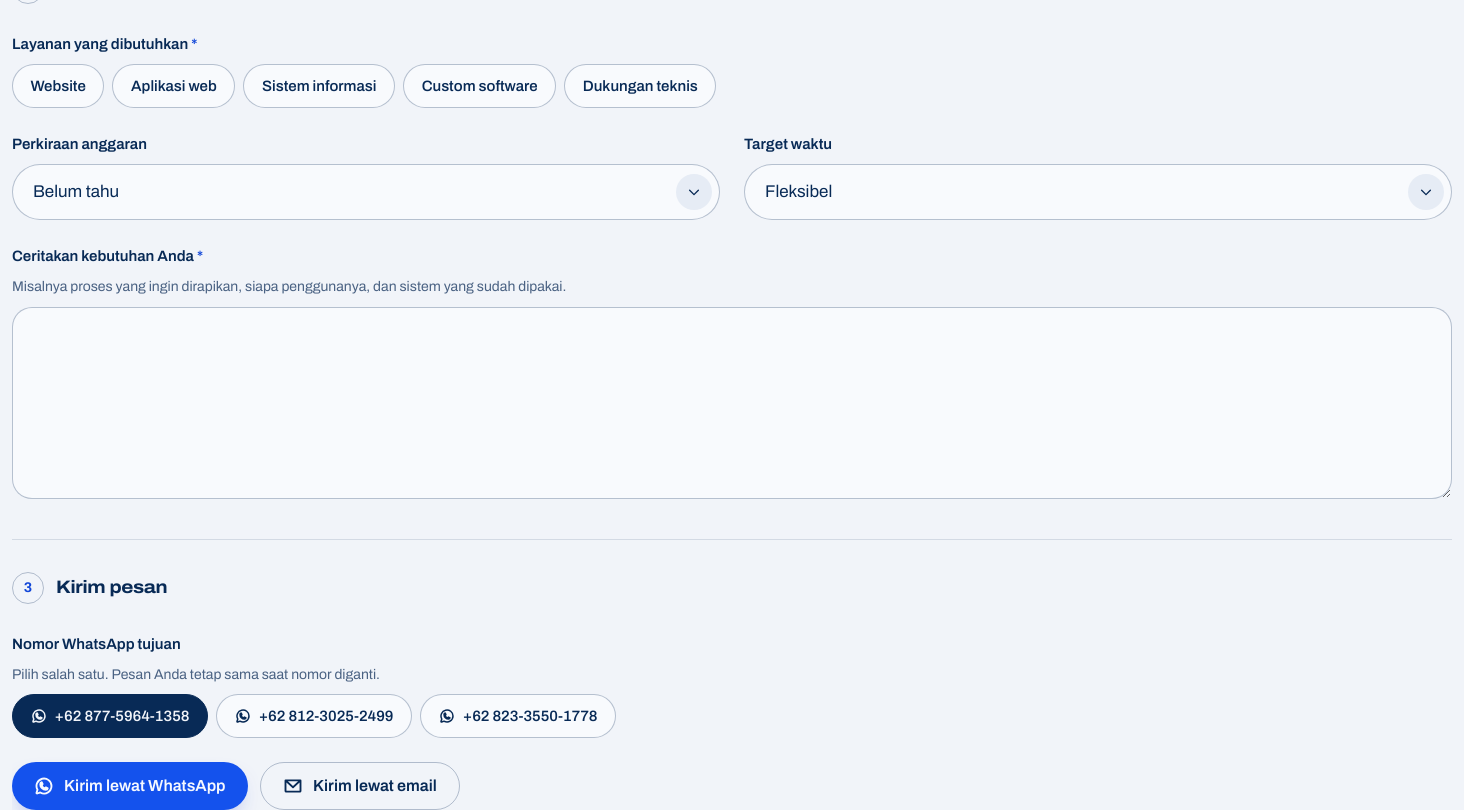
Test: InquiryForm › lists every missing field instead of pretending to send
This screenshot has width=1464, height=810.
(page scrolled)
Click the button "Kirim lewat WhatsApp". click: (130, 786)
box: [12,762,248,809]
(page scrolled)
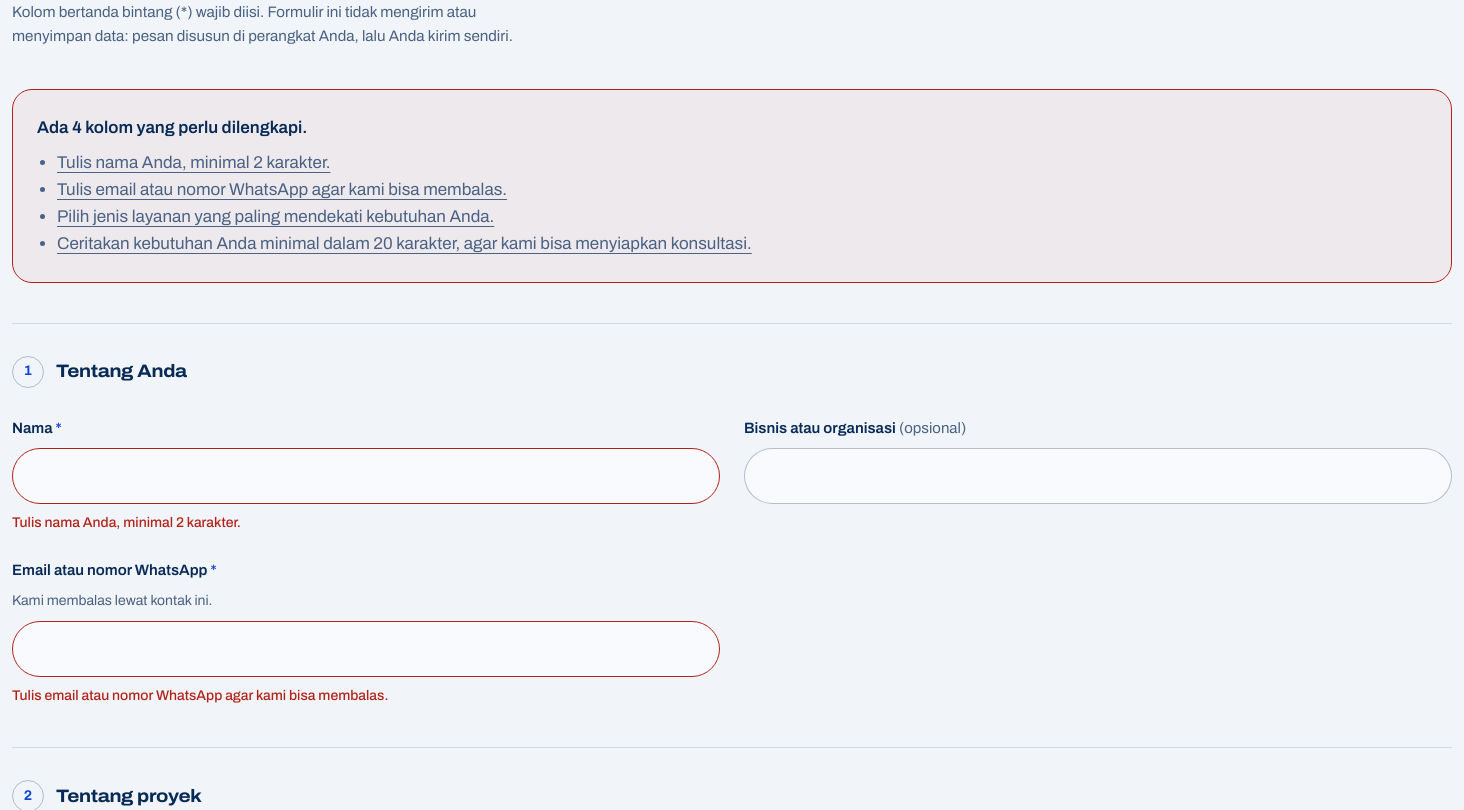
Result: the message shows "Ada 4 kolom yang perlu dilengkapi." at [37,118,307,137]
